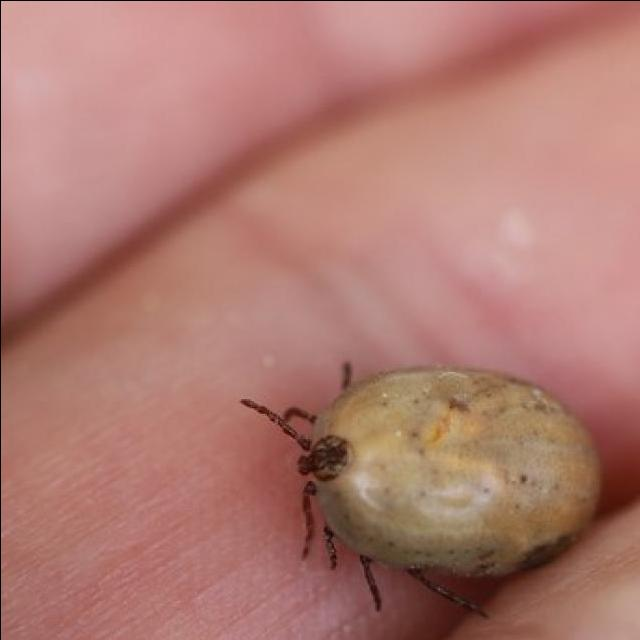Dermacentor Reticulatus-F-Fed: (238, 358, 601, 616)
